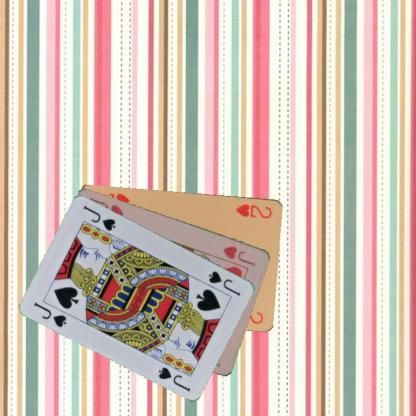2h: (233, 201, 273, 220)
Jh: (220, 243, 258, 268)
Js: (31, 299, 68, 329), (206, 268, 242, 298)
